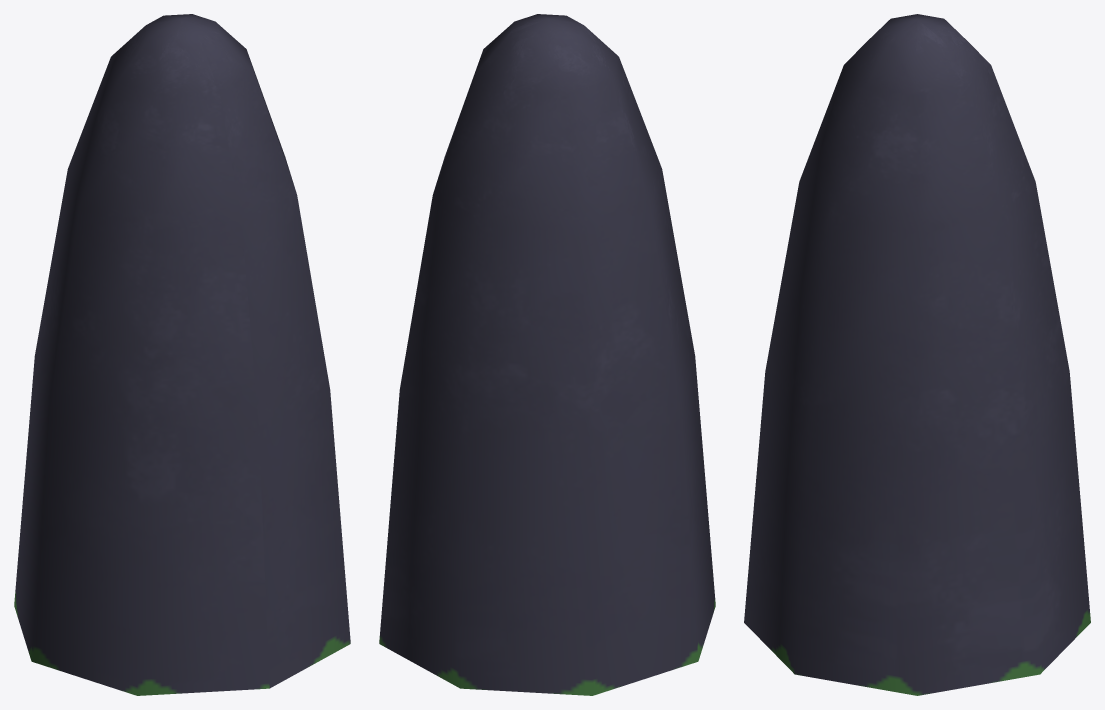
File: TA_Assault_02_Bullet_01.fbx
The picture shows the model from 3 angles, left to right: view 1: azimuth 30°, elevation 25°; view 2: azimuth 150°, elevation 25°; view 3: azimuth 270°, elevation 25°; orthographic projection.
Parts seen in each view (by area): view 1: TA_Assault_02_Bullet_01; view 2: TA_Assault_02_Bullet_01; view 3: TA_Assault_02_Bullet_01.
Part boxes in pixels (box(x1,y1,x2,y2)): TA_Assault_02_Bullet_01: box(14, 14, 350, 695); TA_Assault_02_Bullet_01: box(379, 14, 715, 695); TA_Assault_02_Bullet_01: box(744, 14, 1090, 695).
Bounding box in the file's own units: 23.45 × 44.96 × 23.45.
